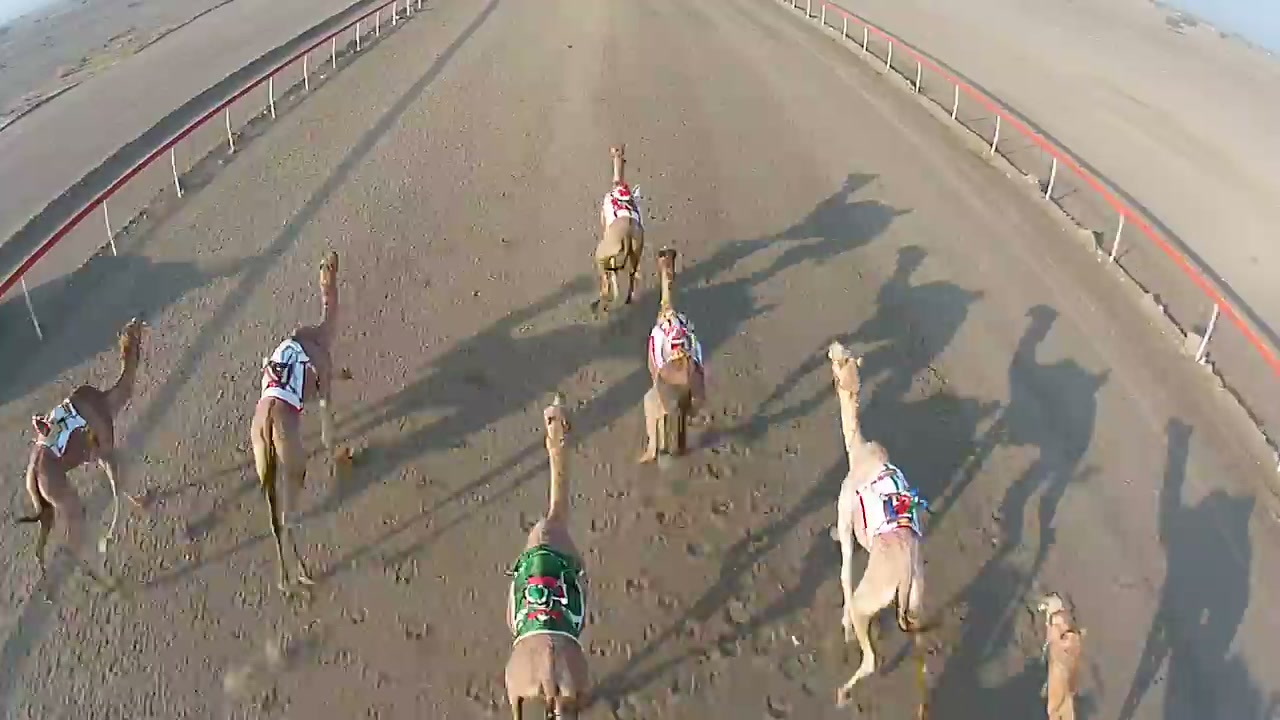animal_foot_print: (251, 398, 491, 697), (600, 397, 820, 718), (9, 464, 235, 717)
